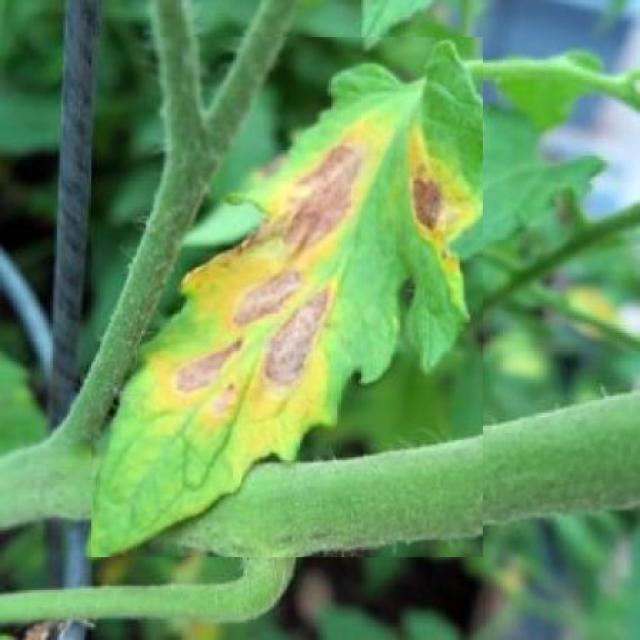Early Blight: (91, 37, 483, 557)
